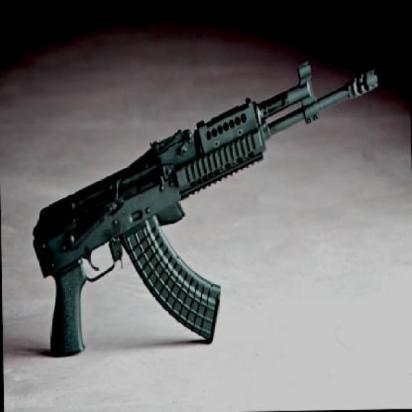Gun: (19, 38, 392, 368)
